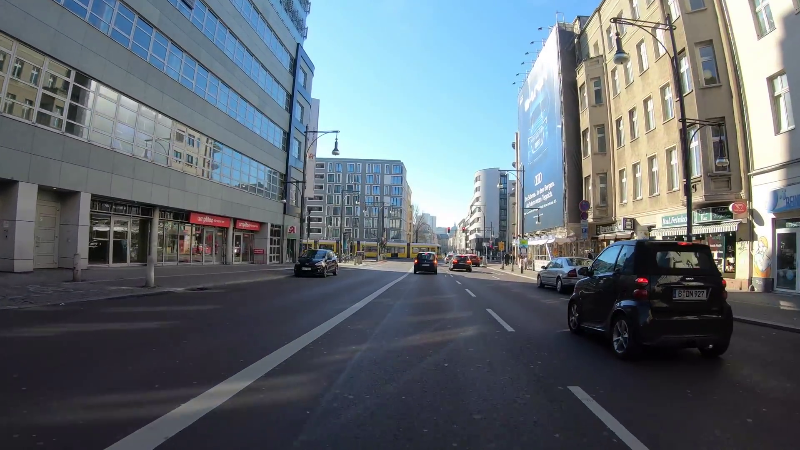Plate: (670, 286, 708, 300), (300, 265, 312, 271), (421, 263, 431, 266)
